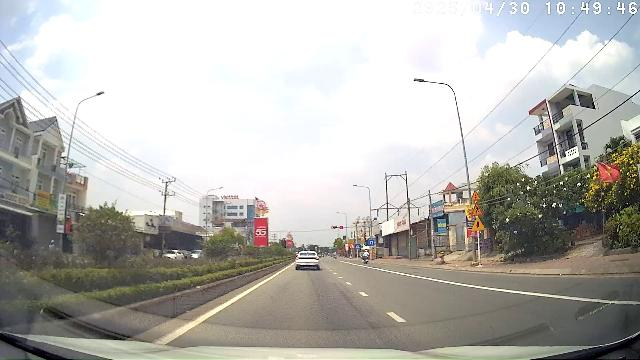423a-duong-nguoi-di-bo-sang-ngang-1: (355, 244, 361, 249)
